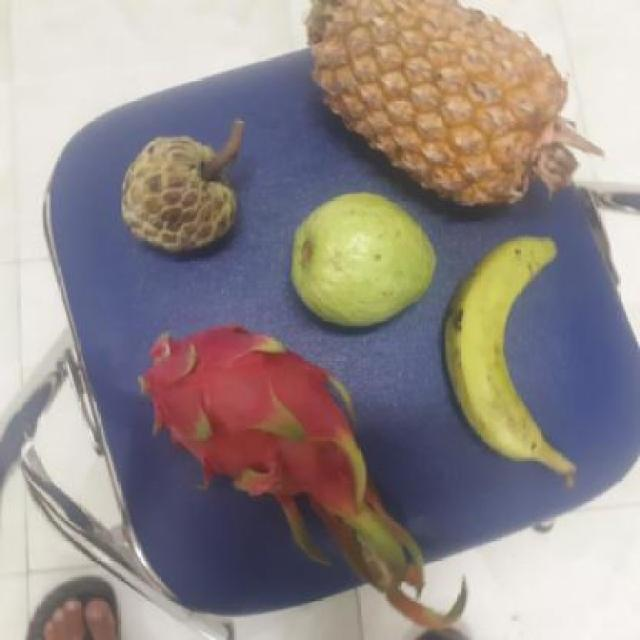banana: (439, 235, 565, 464)
dragon fruit: (132, 324, 360, 502)
guava: (287, 189, 438, 326)
pineapple: (313, 8, 575, 212)
sugar apple: (116, 134, 236, 255)
